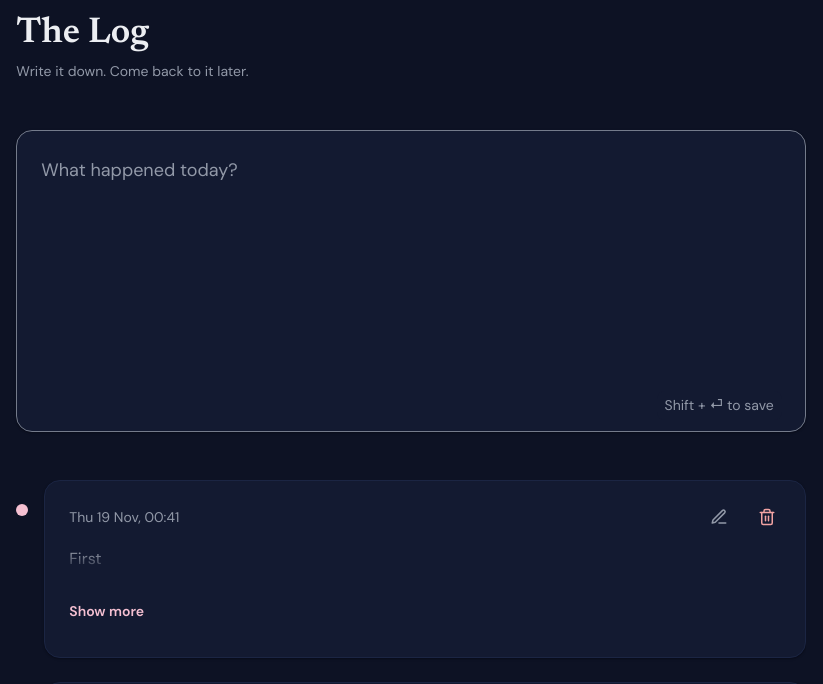
Test: cuts long text and toggles "Show more" and "Show less" with aria-expanded
Check: the element with class "log-card-text--clamped" is shown, box [69,548,102,569]
Click the button with class "log-more".
click(107, 611)  # box [69,589,144,633]
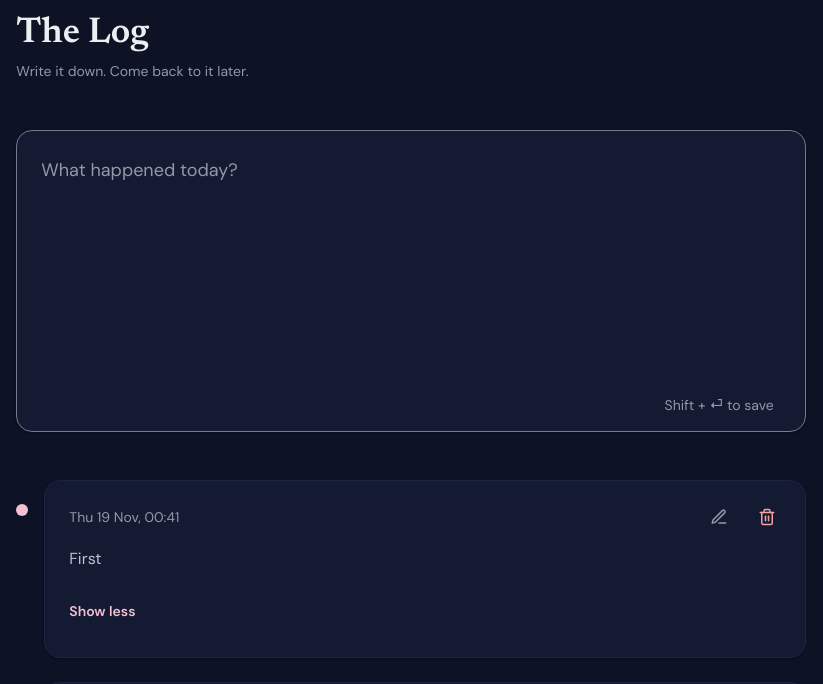
Check: the button with class "log-more" reads "Show less", box [69,589,136,633]
Check: the button with class "log-more" is expanded, box [69,589,136,633]
